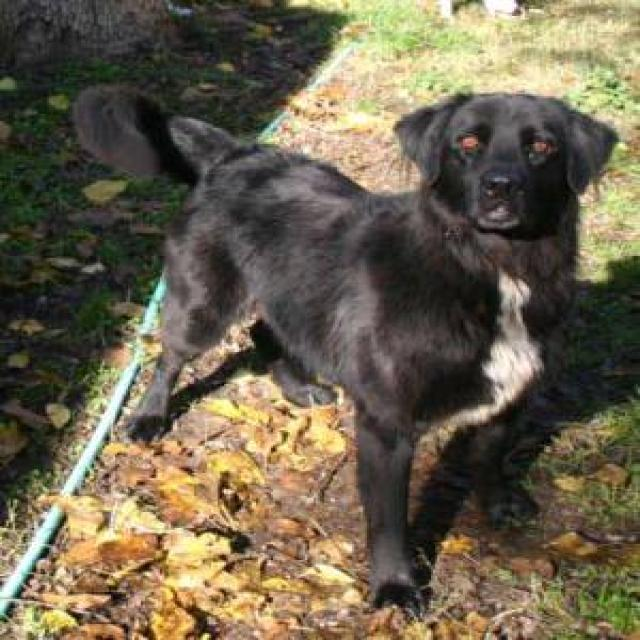dog: (68, 80, 619, 613)
